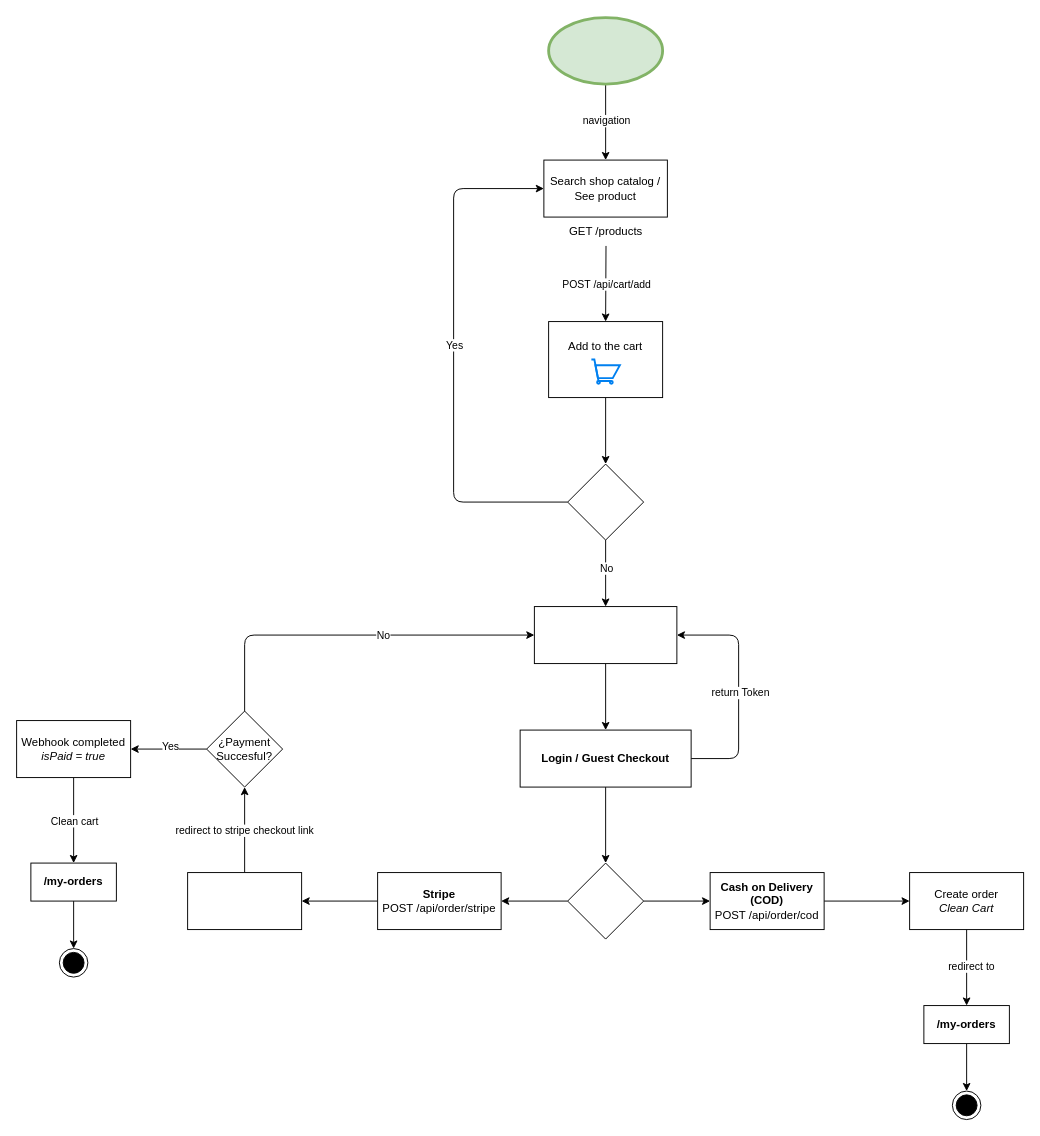
This 1040x1136 diagram has some shape labels left out. Each missing label, with the centre of its shape:
Checkout Select address, sending method, check ítems: the point at 605,635
Create session in Stripe Checkout: the point at 244,901
Select payment method: the point at 605,900
Start / User opens Shop: the point at 605,50
¿Continue shopping?: the point at 605,501
